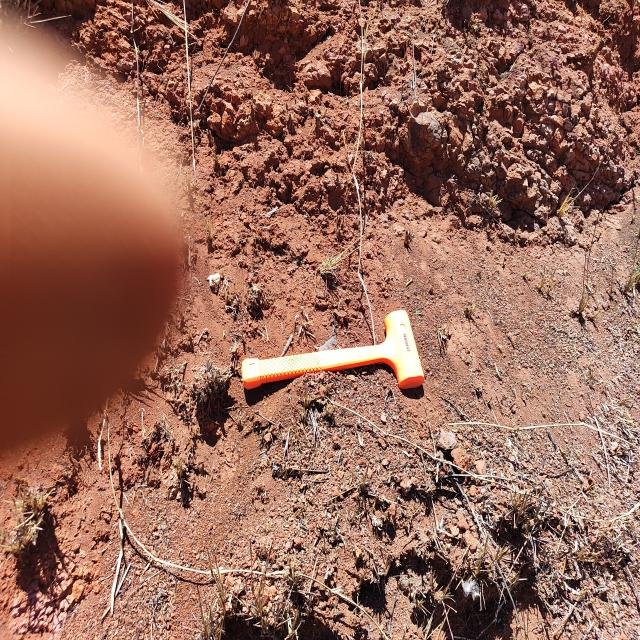Orange_hammer: (240, 308, 424, 392)
